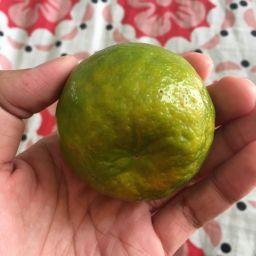Unripe: (58, 46, 215, 200)
